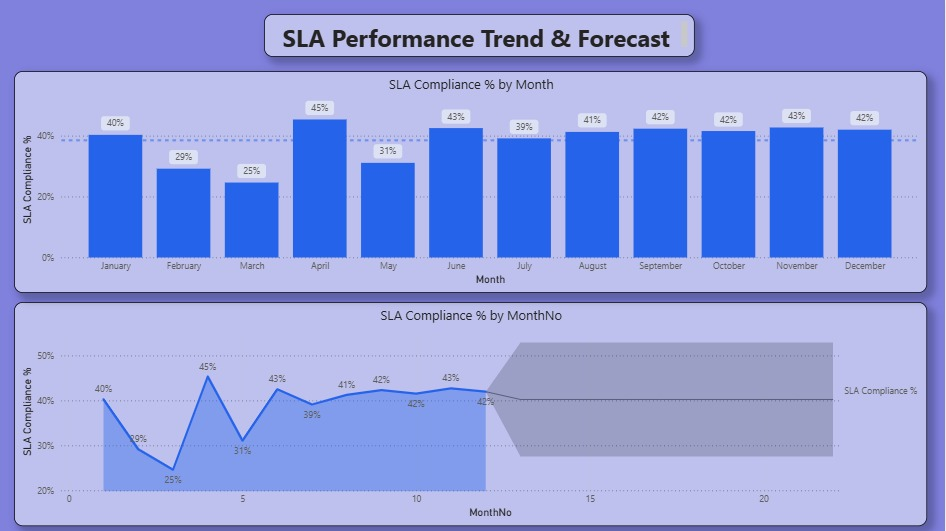

Layout of this report page (visuals, bound fields, positions):
{"tool":"powerbi","page":{"name":"Page 3","canvas":[1280,720],"ordinal":2},"visuals":[{"type":"lineChart","fields":{"Y":["itsm_tickets_900.SLA Compliance %"],"Category":["DateTable.MonthNo"]},"box":[21.6,408.1,1233.8,302.7],"z":0},{"type":"lineClusteredColumnComboChart","fields":{"Category":["DateTable.Date.Variation.Date Hierarchy.Month"],"Y":["itsm_tickets_900.SLA Compliance %"]},"box":[21.6,95.9,1233.8,300],"z":1},{"type":"textbox","box":[359.5,18.9,582.4,58.1],"z":2},{"type":"actionButton","box":[0,0,100,40.5],"z":3}]}

Visuals, with their boxes in screenshot pixels (x1, y1, x2, y2), scaled from the page's 1280x720 canvas onto the 946x531 screenshot:
lineChart - itsm_tickets_900.SLA Compliance % x DateTable.MonthNo: x1=16 y1=301 x2=928 y2=524
lineClusteredColumnComboChart - DateTable.Date.Variation.Date Hierarchy.Month x itsm_tickets_900.SLA Compliance %: x1=16 y1=71 x2=928 y2=292
textbox: x1=266 y1=14 x2=696 y2=57
actionButton: x1=0 y1=0 x2=74 y2=30
